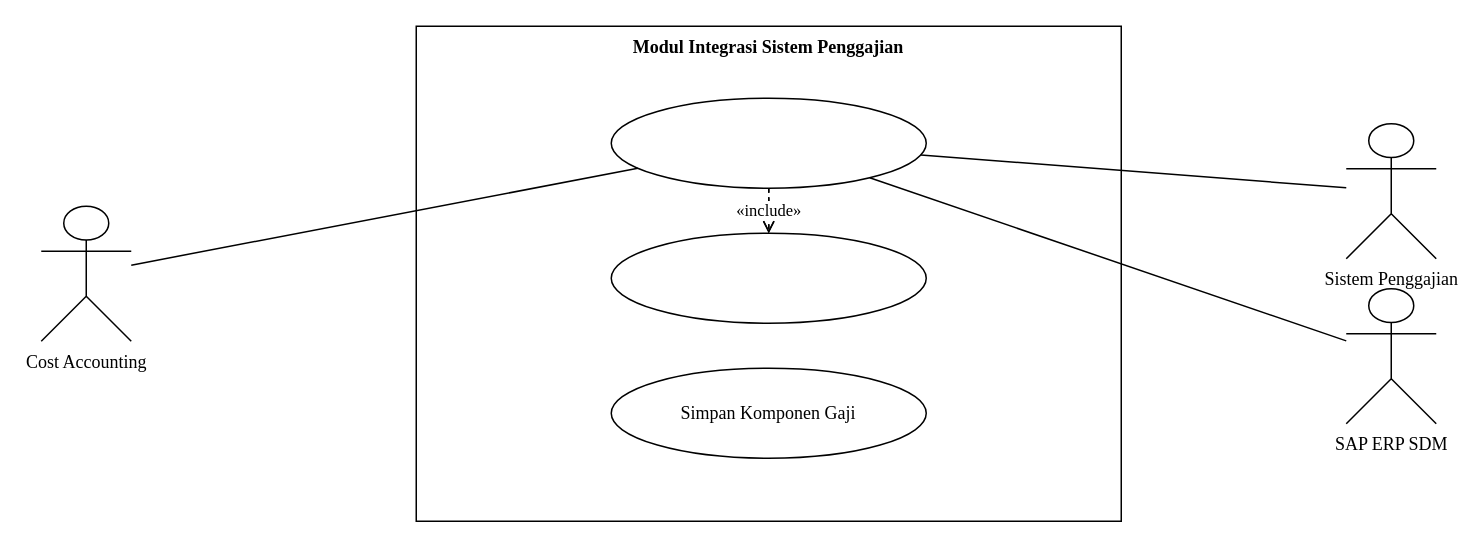
This 1484x548 diagram has some shape labels left out. Each missing label, with the box of its shape:
Tarik Data Penggajian: (610, 97, 926, 188)
Validasi & Transformasi Data: (610, 232, 926, 323)
